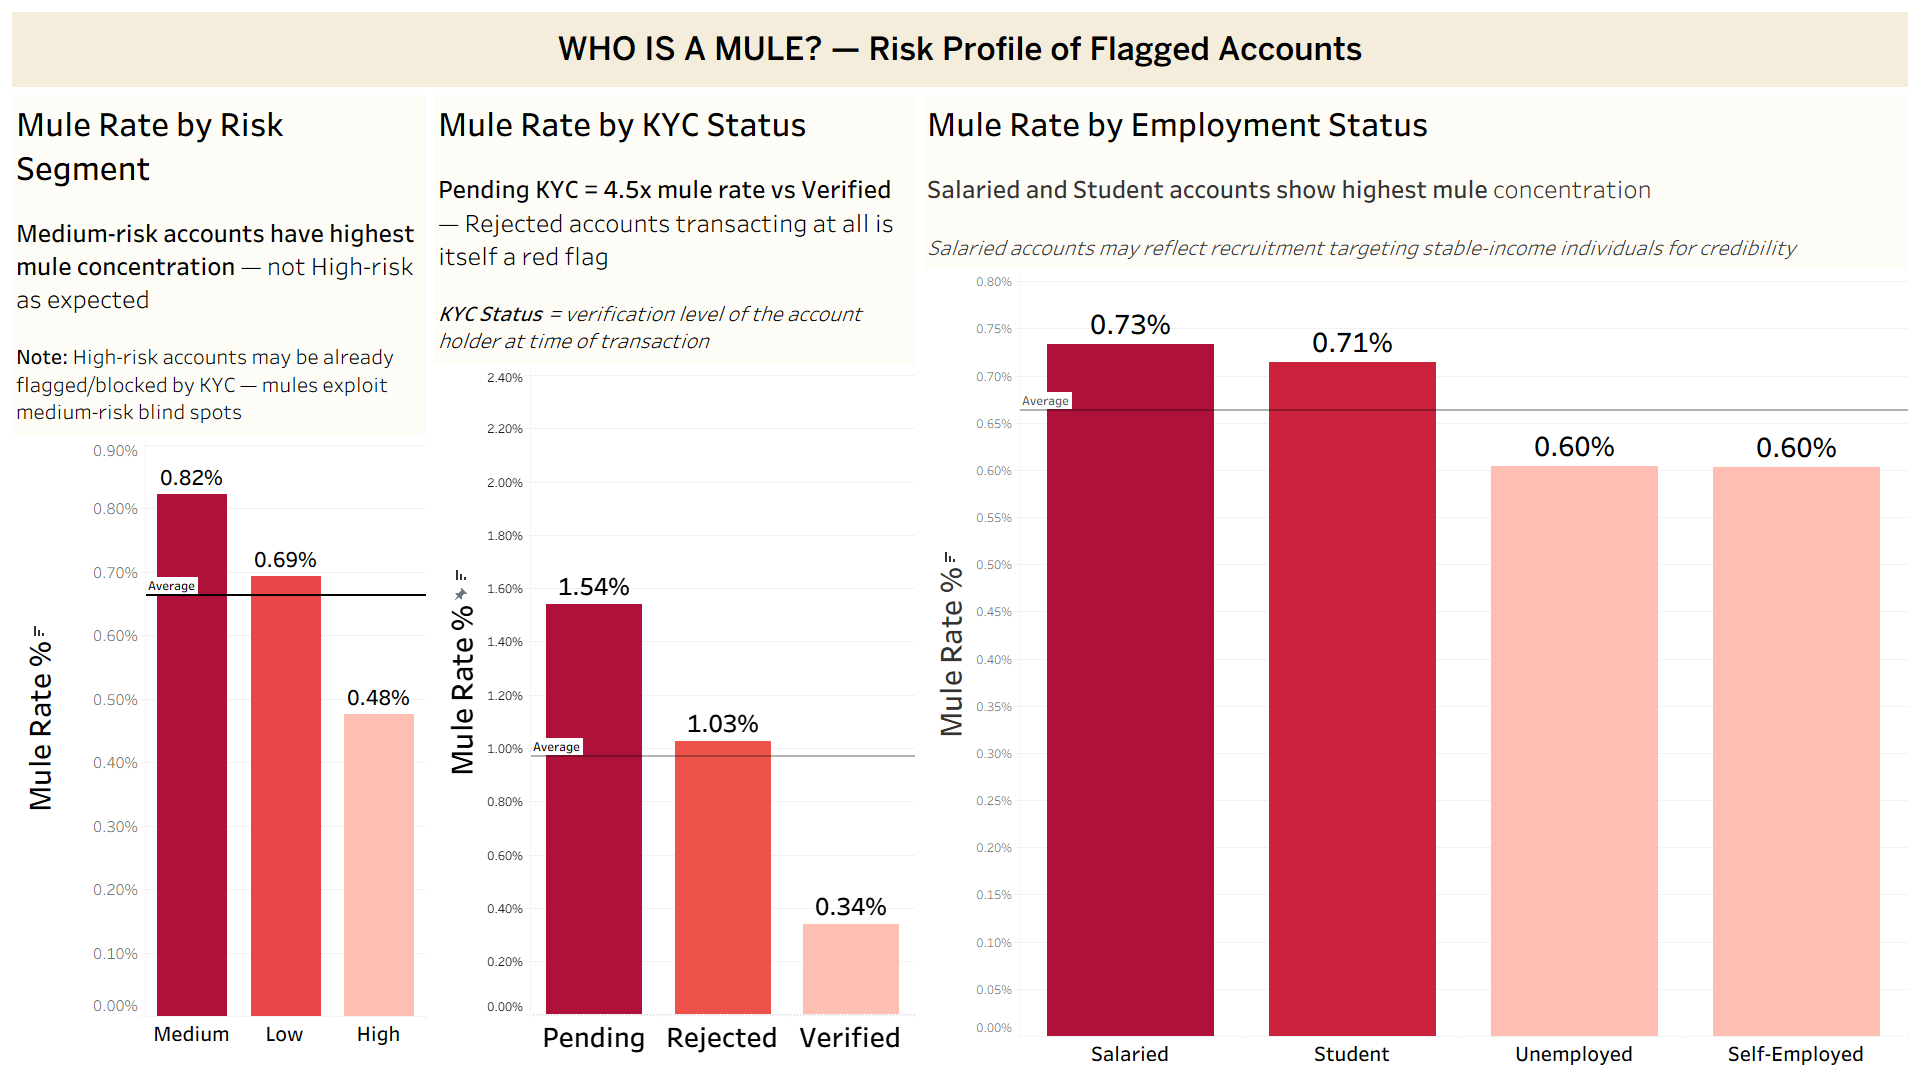

This screenshot's page, from the dashboard's own definition file:
{"tool":"tableau","page":{"name":"Dashboard 1","canvas":[1920,1080],"ordinal":0},"visuals":[{"type":"title","box":[8,8,1904,83]},{"type":"worksheet","title":"WHO_PROFILE","mark":"Bar","rows":["Calculation_0225738720907268"],"cols":["risk_segment"],"box":[8,91,421.6,981]},{"type":"worksheet","title":"WHO-KYC","mark":"Bar","rows":["Calculation_0225738720907268"],"cols":["kyc_status"],"box":[429.6,91,489.4,981]},{"type":"worksheet","title":"WHO-employment","mark":"Bar","rows":["Calculation_0225738720907268"],"cols":["employment_status"],"box":[919,91,992.9,981]}]}

Visuals, with their boxes in screenshot pixels (x1, y1, x2, y2), scaled from the page's 1920x1080 canvas onto the 1920x1080 screenshot:
title: bbox=[8, 8, 1912, 91]
"WHO_PROFILE" worksheet (Bar marks): bbox=[8, 91, 430, 1072]
"WHO-KYC" worksheet (Bar marks): bbox=[430, 91, 919, 1072]
"WHO-employment" worksheet (Bar marks): bbox=[919, 91, 1912, 1072]
